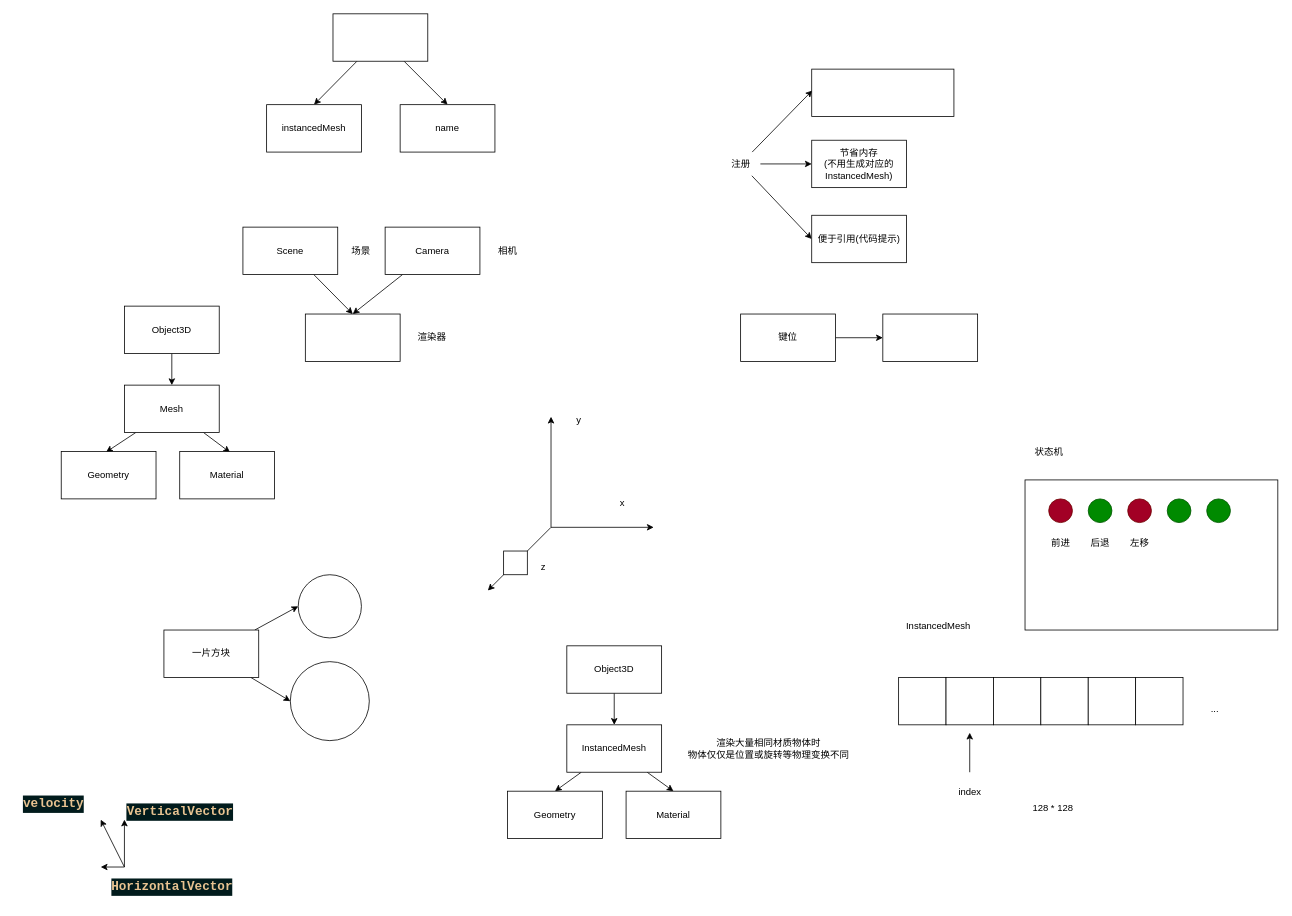
Some shapes in this 1292 by 916 pixel diagram are drawn without their labels. Each missing label, with the centre of its shape:
class Block: the point at 380,37
Renderer: the point at 352,337
便于管理, 这个方块是否存在: the point at 882,92
动作: the point at 930,337
数量: the point at 329,606
每个方块的材质: the point at 329,701
